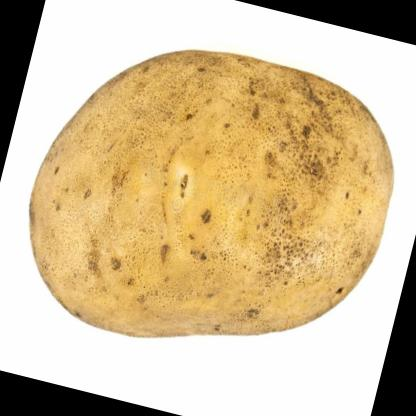potato: (1, 12, 416, 393)
